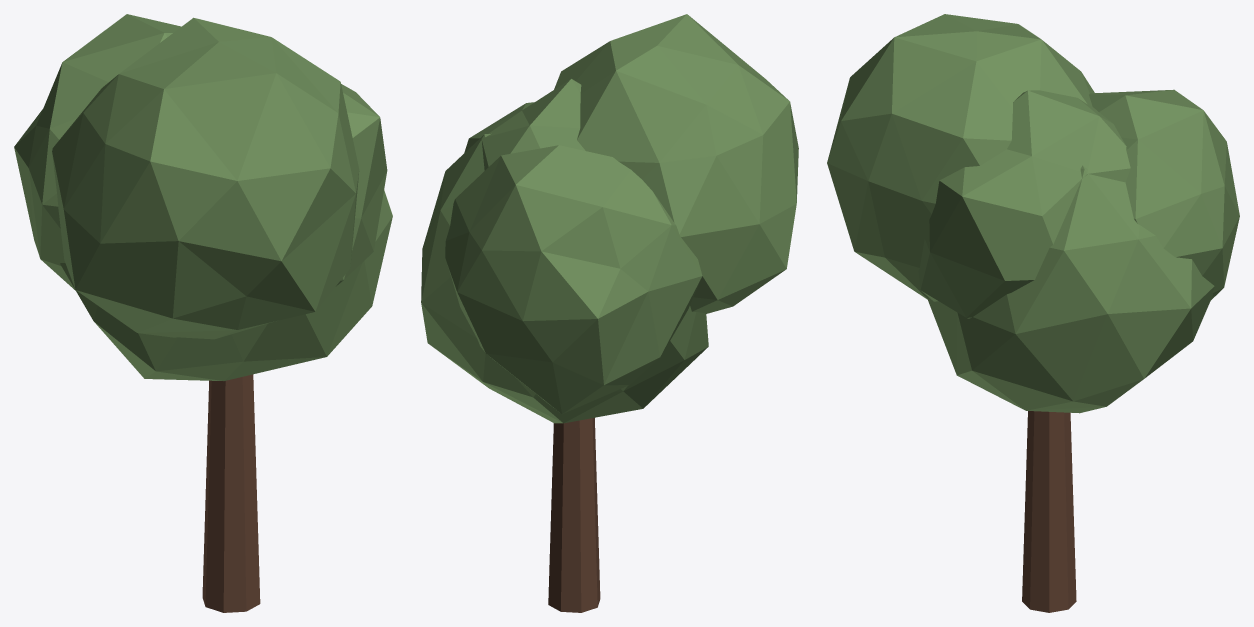
File: tree_round.glb
The picture shows the model from 3 angles, left to right: view 1: azimuth 30°, elevation 25°; view 2: azimuth 150°, elevation 25°; view 3: azimuth 270°, elevation 25°; orthographic projection. The views are drawn at different scales.
Visible parts, largest first — view 1: Icosphere.001, Icosphere.003, Cylinder, Icosphere.002, Icosphere; view 2: Icosphere.002, Icosphere.001, Icosphere.003, Cylinder, Icosphere; view 3: Icosphere.003, Icosphere.001, Icosphere, Icosphere.002, Cylinder.
Boxes of the visible parts, x1,y1,x2,y2 form: Icosphere.001: (52, 17, 359, 339); Icosphere.003: (60, 190, 392, 380); Cylinder: (202, 374, 260, 612); Icosphere.002: (14, 14, 181, 290); Icosphere: (336, 84, 387, 286); Icosphere.002: (445, 145, 702, 414); Icosphere.001: (554, 14, 798, 314); Icosphere.003: (421, 133, 708, 423); Cylinder: (548, 417, 600, 612); Icosphere: (464, 78, 585, 170); Icosphere.003: (927, 165, 1214, 413); Icosphere.001: (827, 14, 1094, 299); Icosphere: (918, 90, 1130, 318); Icosphere.002: (1089, 89, 1239, 299); Cylinder: (1022, 411, 1076, 612).
Bounding box in the file's own units: 1.18 × 1.99 × 1.36.
